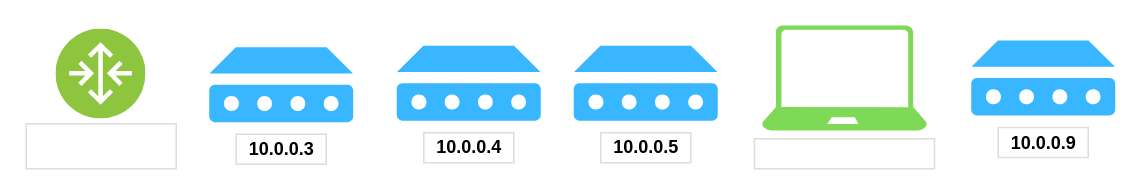
Some shapes in this 1142 by 195 pixel diagram are drawn without their labels. The centre of each missing label's shape, as x and y in pixels:
gateway (router) 10.0.0.1: (100,145)
Our computer: Mon: (843,153)
